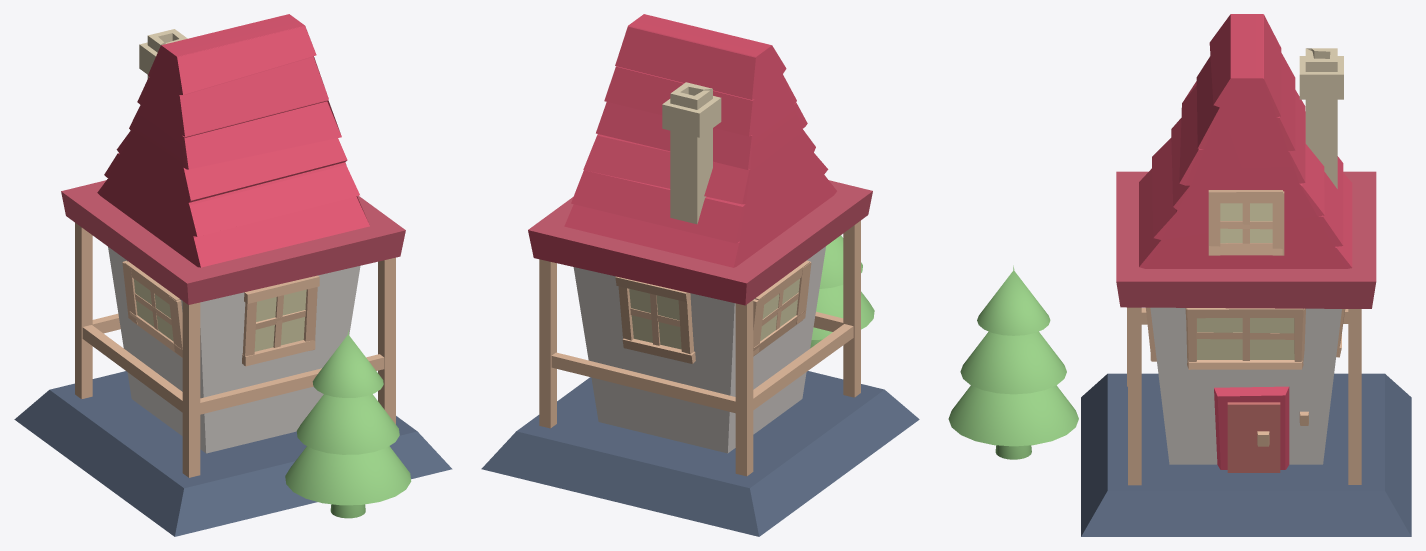
The model's file is hut.fbx.
The picture shows the model from 3 angles, left to right: view 1: azimuth 30°, elevation 25°; view 2: azimuth 150°, elevation 25°; view 3: azimuth 270°, elevation 25°; orthographic projection. The views are drawn at different scales.
Parts seen in each view (by area): view 1: pasted__pCylinder1, pCube6, pasted__pasted__pCone1, pasted__pasted__pasted__pCube5 (×2), pasted__pasted__pasted__pCube2, pasted__pasted__pCube5, pasted__pCube10 (×2), pCube5, pasted__pasted__pasted__pasted__pasted__pCube5, pasted__pasted__pasted__pCube4; view 2: pasted__pCylinder1, pCube6, pasted__pasted__pasted__pCube5 (×2), pCube3, pasted__pasted__pCube5, pasted__pasted__pasted__pasted__pCube5, pasted__pCube5, pasted__pasted__pasted__pasted__pCube2, pasted__pasted__pCone1, pasted__pasted__pasted__pCube4, pasted__pasted__pasted__pCube10, pasted__pCube3 (+1 smaller); view 3: pasted__pCylinder1, pCube6, pasted__pasted__pCone1, pCube8, pasted__pasted__pasted__pCube4, pCube10, pasted__pasted__pCube4, pCube3, pCube5, pasted__pCube5, pasted__pCube10, pasted__pCube3 (+1 smaller).
Part boxes in pixels (x1,y1,x2,y2): pasted__pCylinder1: (61, 14, 405, 453); pCube6: (14, 371, 452, 536); pasted__pasted__pCone1: (285, 330, 411, 518); pasted__pasted__pasted__pCube5 (×2): (82, 301, 200, 477); pasted__pasted__pasted__pCube2: (242, 275, 319, 366); pasted__pasted__pCube5: (75, 223, 92, 399); pasted__pCube10 (×2): (134, 279, 306, 351); pCube5: (378, 257, 395, 424); pasted__pasted__pasted__pasted__pasted__pCube5: (200, 354, 384, 414); pasted__pasted__pasted__pCube4: (122, 260, 182, 357); pasted__pCylinder1: (528, 14, 872, 453); pCube6: (481, 371, 919, 536); pasted__pasted__pasted__pCube5 (×2): (753, 220, 860, 410); pCube3: (670, 82, 712, 224); pasted__pasted__pCube5: (735, 300, 753, 476); pasted__pasted__pasted__pasted__pCube5: (551, 352, 735, 413); pasted__pCube5: (539, 259, 556, 428); pasted__pasted__pasted__pasted__pCube2: (615, 276, 695, 363); pasted__pasted__pCone1: (810, 235, 874, 348); pasted__pasted__pasted__pCube4: (753, 260, 811, 356); pasted__pasted__pasted__pCube10: (629, 289, 681, 349); pasted__pCube3: (662, 96, 721, 137); pasted__pCylinder1: (1116, 14, 1376, 469); pCube6: (1081, 373, 1411, 536); pasted__pasted__pCone1: (948, 265, 1078, 459); pCube8: (1227, 402, 1280, 472); pasted__pasted__pasted__pCube4: (1185, 308, 1305, 369); pCube10: (1197, 318, 1294, 359); pasted__pasted__pCube4: (1208, 190, 1284, 255); pCube3: (1305, 48, 1337, 188); pCube5: (1128, 307, 1141, 485); pasted__pCube5: (1348, 309, 1361, 484); pasted__pCube10: (1220, 203, 1272, 243); pasted__pCube3: (1299, 56, 1343, 99).
Bounding box in the file's own units: 8.6 × 12.09 × 12.05.
